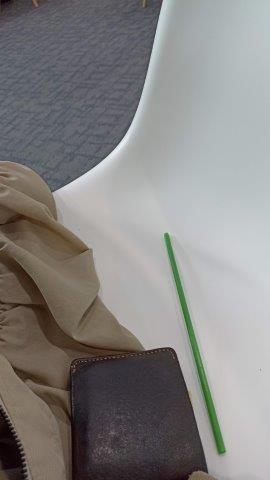sedotan: (164, 233, 226, 454)
